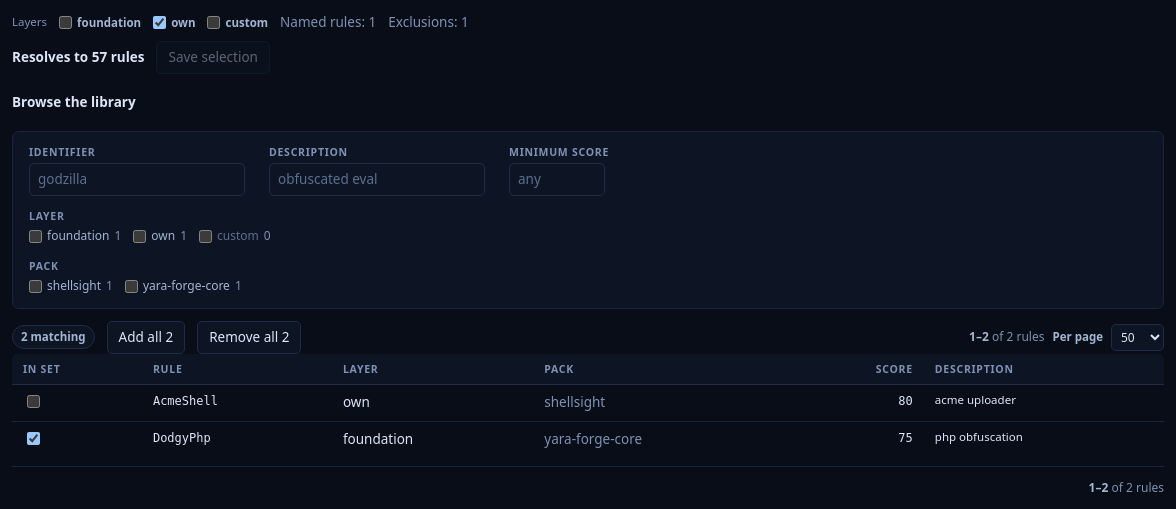
Test case: the resolved count is marked stale once there are unsaved changes
The width and height of the screenshot is (1176, 509).
Expected: the text "Resolves to 57 rules" is shown, [12,47,144,68]
Click the checkbox named "include layer foundation": (66, 22) [59,16,72,29]
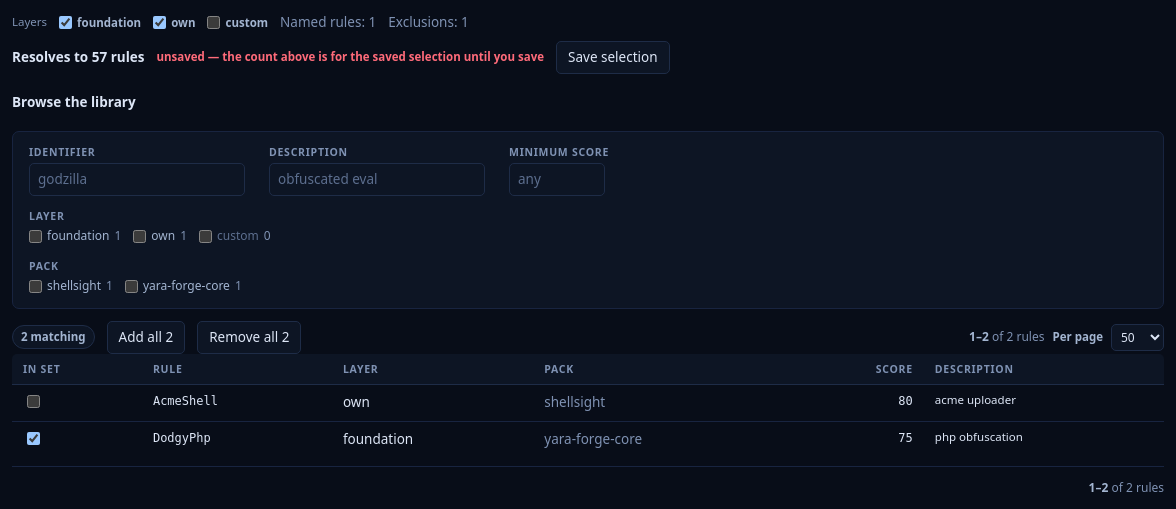
Now the text "unsaved" is shown, box [156,50,544,64]
